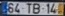1: (45, 2, 49, 14)
4: (49, 3, 56, 13), (14, 2, 20, 13)
6: (7, 2, 13, 13)
B: (32, 2, 40, 14)
T: (24, 2, 32, 14)
